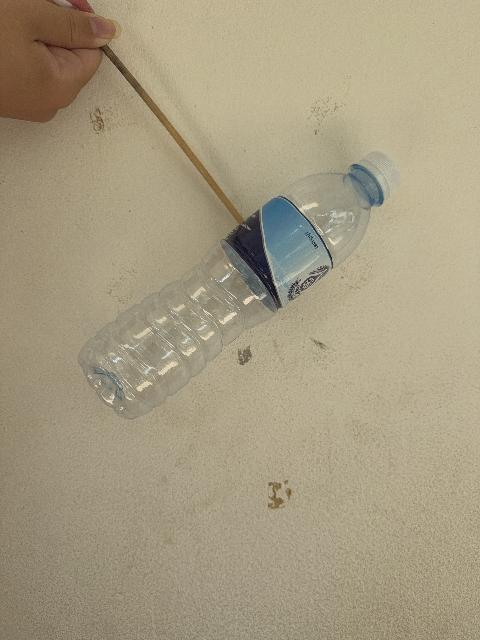bottle: (79, 152, 400, 419)
